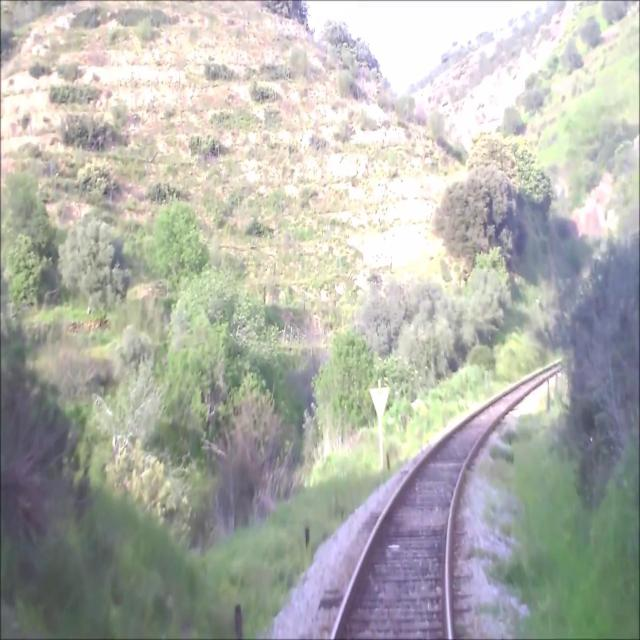rail-track: (335, 364, 561, 639)
